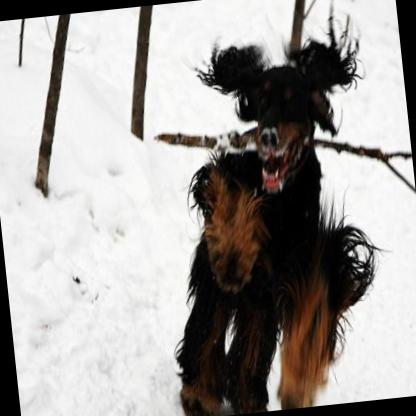Gordon_setter: (136, 9, 397, 416)
